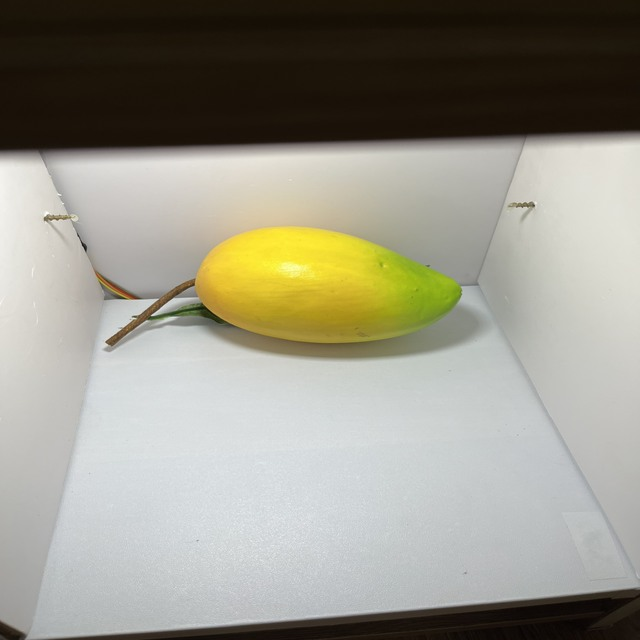Xoai: (184, 221, 469, 349)
